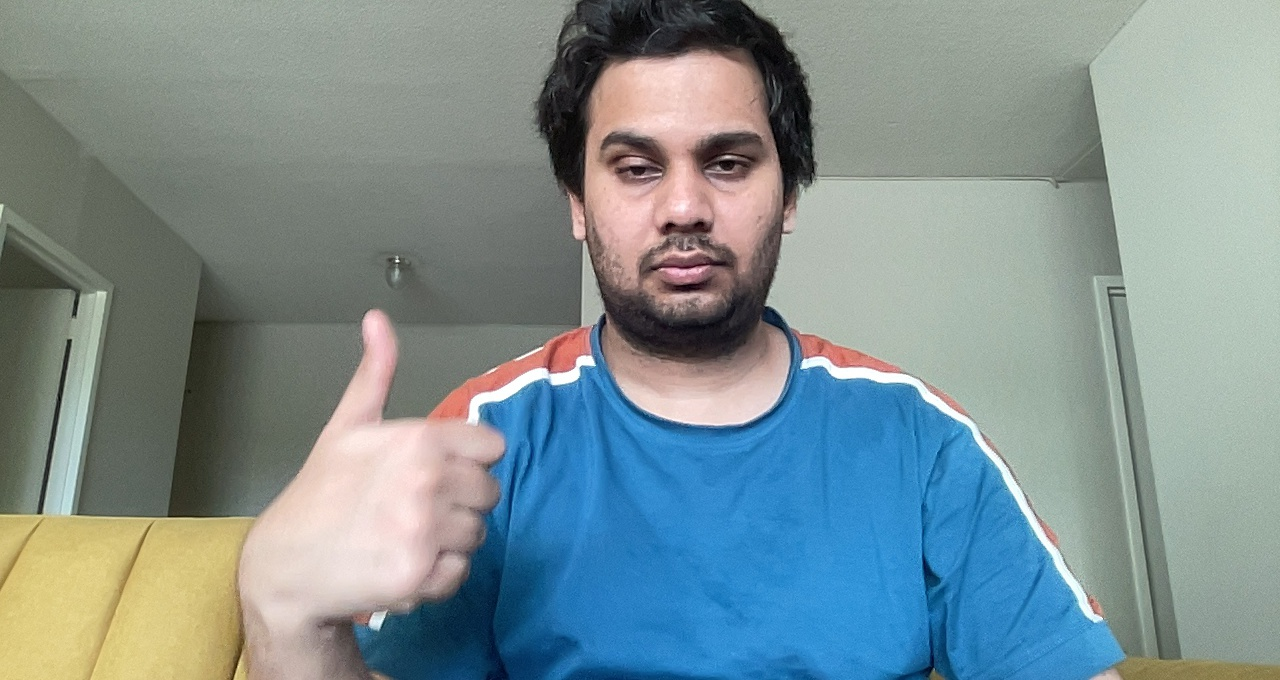thumbsup: (255, 304, 511, 620)
